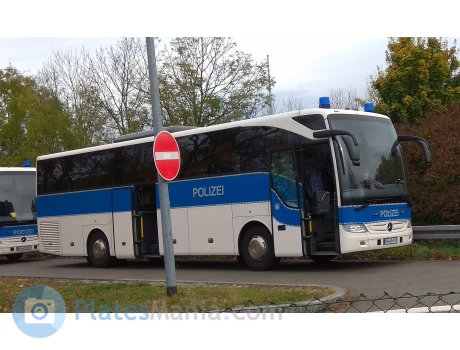License Plates: (16, 242, 41, 252), (383, 238, 403, 247)
